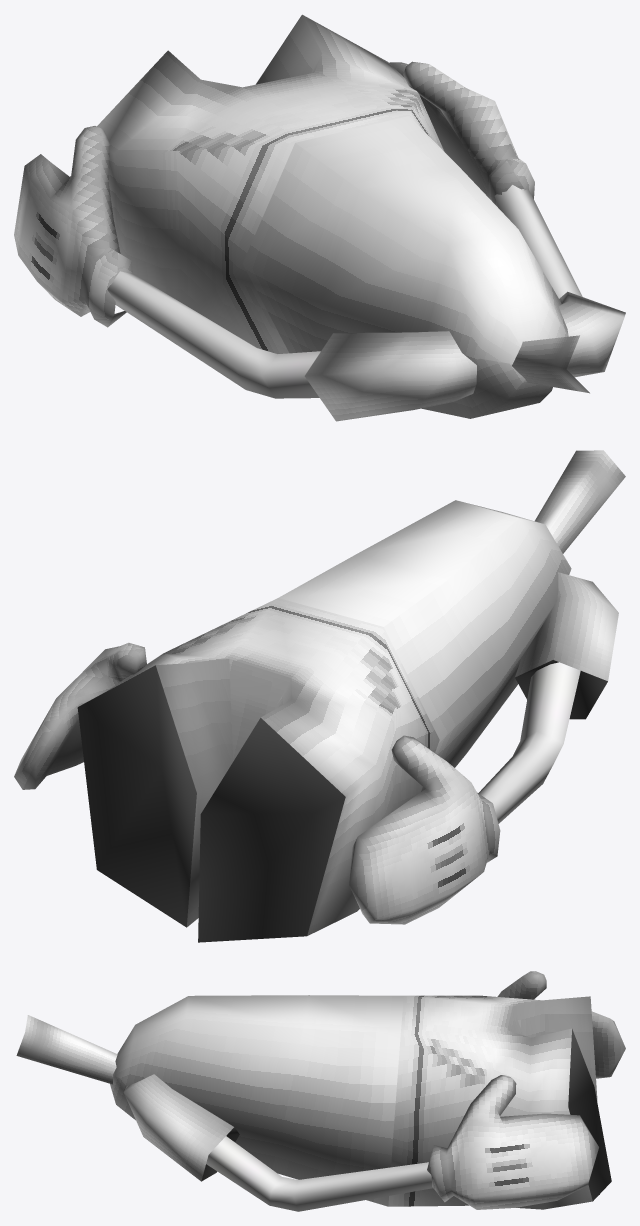
File: torso_ls.glb
3 renders of one model, top to bottom at view 1: azimuth 30°, elevation 25°; view 2: azimuth 150°, elevation 25°; view 3: azimuth 270°, elevation 25°, orthographic. The views are drawn at different scales.
Parts seen in each view (by area): view 1: torso-top, torso-bot, hands, sleeves, arms, neck; view 2: torso-bot, torso-top, hands, sleeves, arms, neck; view 3: torso-top, torso-bot, hands, arms, sleeves, neck.
Boxes of the visible parts, box(x1,y1,x2,y2) form: torso-top: box(242, 116, 568, 418); torso-bot: box(97, 14, 444, 353); hands: box(14, 61, 534, 327); sleeves: box(304, 291, 625, 421); arms: box(107, 185, 582, 398); neck: box(512, 335, 589, 393); torso-bot: box(77, 598, 439, 942); torso-top: box(278, 500, 571, 791); hands: box(14, 642, 500, 924); sleeves: box(515, 572, 618, 719); arms: box(478, 662, 580, 823); neck: box(535, 450, 625, 553); torso-top: box(110, 995, 403, 1206); torso-bot: box(388, 995, 611, 1209); hands: box(427, 971, 625, 1209); arms: box(206, 1136, 432, 1211); sleeves: box(123, 1074, 239, 1181); neck: box(16, 1015, 117, 1084).
Size of the model in its own units: 2.06 by 1.16 by 3.33.
6 materials, 6 textured.
